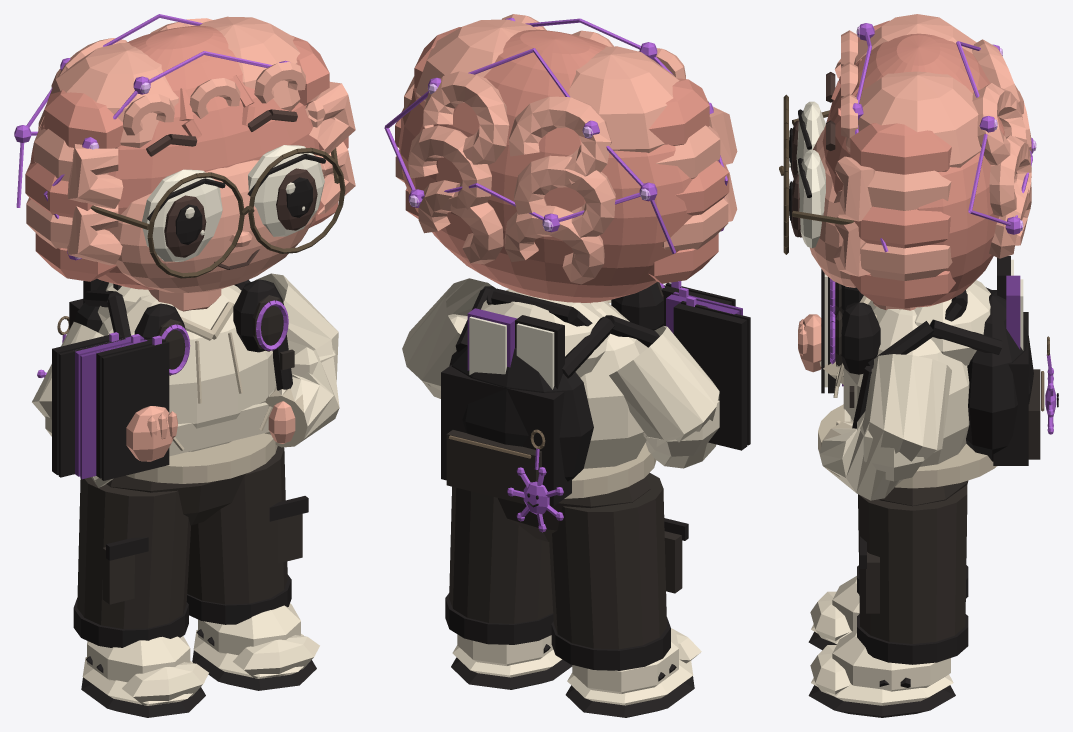
File: Cerebrô.glb
3 views of the same model, side by side, from view 1: azimuth 30°, elevation 25°; view 2: azimuth 150°, elevation 25°; view 3: azimuth 270°, elevation 25° (orthographic). The views are drawn at different scales.
Parts seen in each view (by area): view 1: Cerebro; view 2: Cerebro; view 3: Cerebro.
Part boxes in pixels (left/top/right/bottom): Cerebro: left=14, top=14, right=355, bottom=717; Cerebro: left=384, top=14, right=750, bottom=717; Cerebro: left=779, top=14, right=1058, bottom=717.
Bounding box in the file's own units: 1.49 × 3 × 1.19.
Materials: 1 (1 with a texture image).
